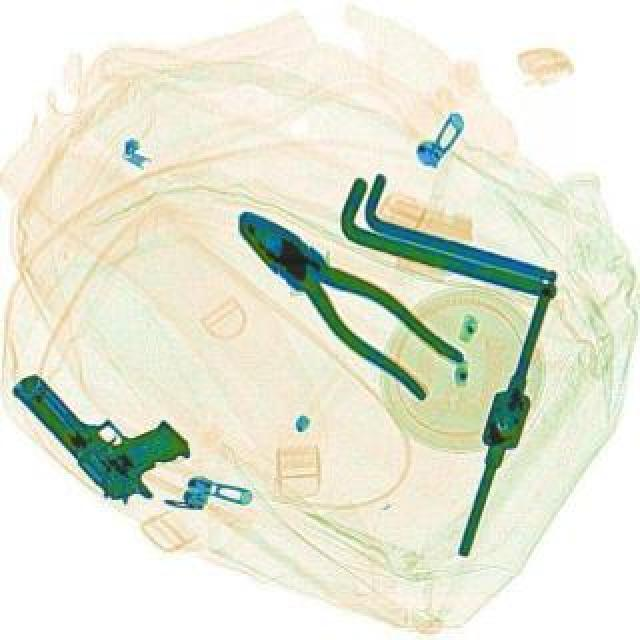gun: (6, 330, 202, 518)
wrench: (214, 190, 466, 406)
